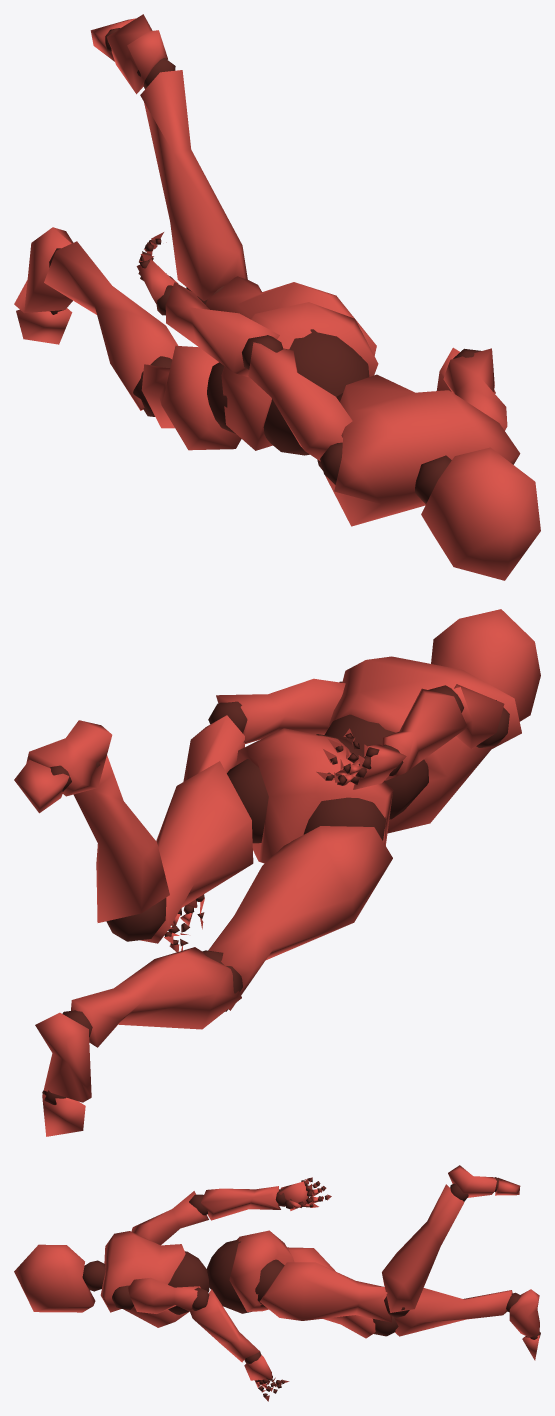
3 views of the same model, one above another, from view 1: azimuth 30°, elevation 25°; view 2: azimuth 150°, elevation 25°; view 3: azimuth 270°, elevation 25° (orthographic). The views are drawn at different scales.
Parts seen in each view (by area): view 1: Beta_Surface, Beta_Joints; view 2: Beta_Surface, Beta_Joints; view 3: Beta_Surface, Beta_Joints.
Boxes of the visible parts, box(x1,y1,x2,y2) form: Beta_Surface: box(14, 14, 540, 580); Beta_Joints: box(49, 28, 481, 504); Beta_Surface: box(14, 609, 540, 1136); Beta_Joints: box(42, 681, 509, 1104); Beta_Surface: box(14, 1165, 539, 1401); Beta_Joints: box(82, 1177, 540, 1397).
Size of the model in its own units: 0.5891 by 0.7907 by 1.78.
